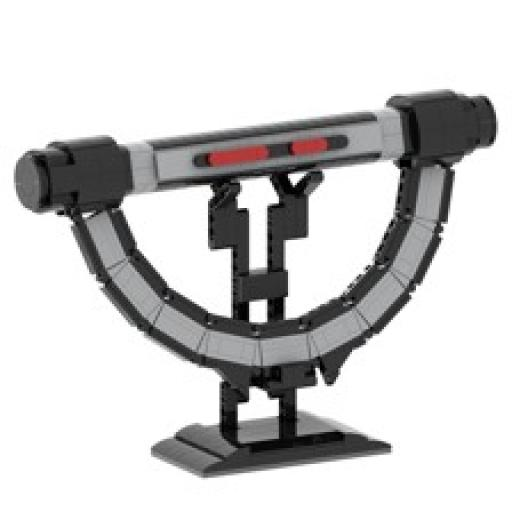lightsaber: (18, 92, 489, 220)
